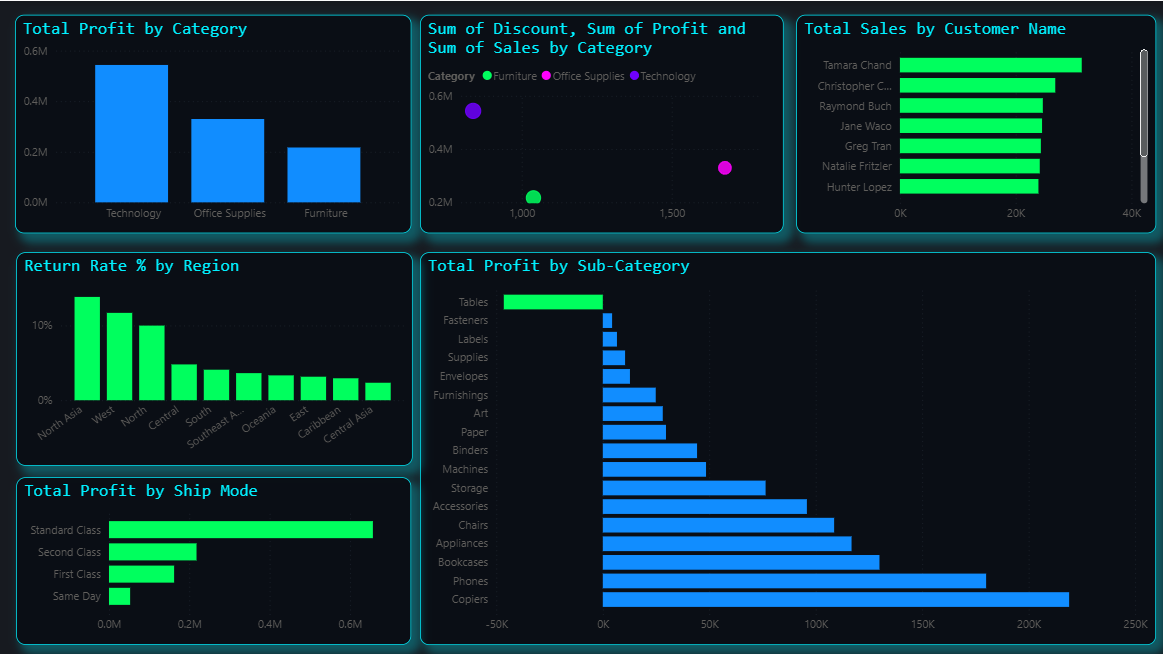

The page's visual inventory and layout, read from the dashboard file:
{"tool":"powerbi","page":{"name":"Page 2","canvas":[1280,720],"ordinal":2},"visuals":[{"type":"clusteredColumnChart","fields":{"Category":["Orders.Category"],"Y":["Orders.Total Profit"]},"box":[16.5,15.1,435,240.1],"z":0},{"type":"clusteredBarChart","fields":{"Category":["Orders.Sub-Category"],"Y":["Orders.Total Profit"]},"box":[461.1,275.8,808.2,430.9],"z":1000},{"type":"scatterChart","fields":{"X":["Sum(Orders.Discount)"],"Y":["Sum(Orders.Profit)"],"Series":["Orders.Category"],"Size":["Sum(Orders.Sales)"]},"box":[461.1,15.1,399.3,240.1],"z":2000},{"type":"clusteredColumnChart","fields":{"Category":["Orders.Region"],"Y":["Orders.Return Rate %"]},"box":[17.8,275.8,435,234.6],"z":3000},{"type":"clusteredBarChart","fields":{"Category":["Orders.Ship Mode"],"Y":["Orders.Total Profit"]},"box":[17.8,522.8,433.6,183.9],"z":4000},{"type":"clusteredBarChart","fields":{"Category":["Orders.Customer Name"],"Y":["Orders.Total Sales"]},"box":[874.1,15.1,395.2,240.1],"z":5000}]}

Visuals, with their boxes in screenshot pixels (x1, y1, x2, y2), scaled from the page's 1280x720 canvas onto the 1163x654 screenshot:
clusteredColumnChart - Orders.Category x Orders.Total Profit: <box>15,14,410,232</box>
clusteredBarChart - Orders.Sub-Category x Orders.Total Profit: <box>419,251,1153,642</box>
scatterChart - Sum(Orders.Discount) x Sum(Orders.Profit): <box>419,14,782,232</box>
clusteredColumnChart - Orders.Region x Orders.Return Rate %: <box>16,251,411,464</box>
clusteredBarChart - Orders.Ship Mode x Orders.Total Profit: <box>16,475,410,642</box>
clusteredBarChart - Orders.Customer Name x Orders.Total Sales: <box>794,14,1153,232</box>
